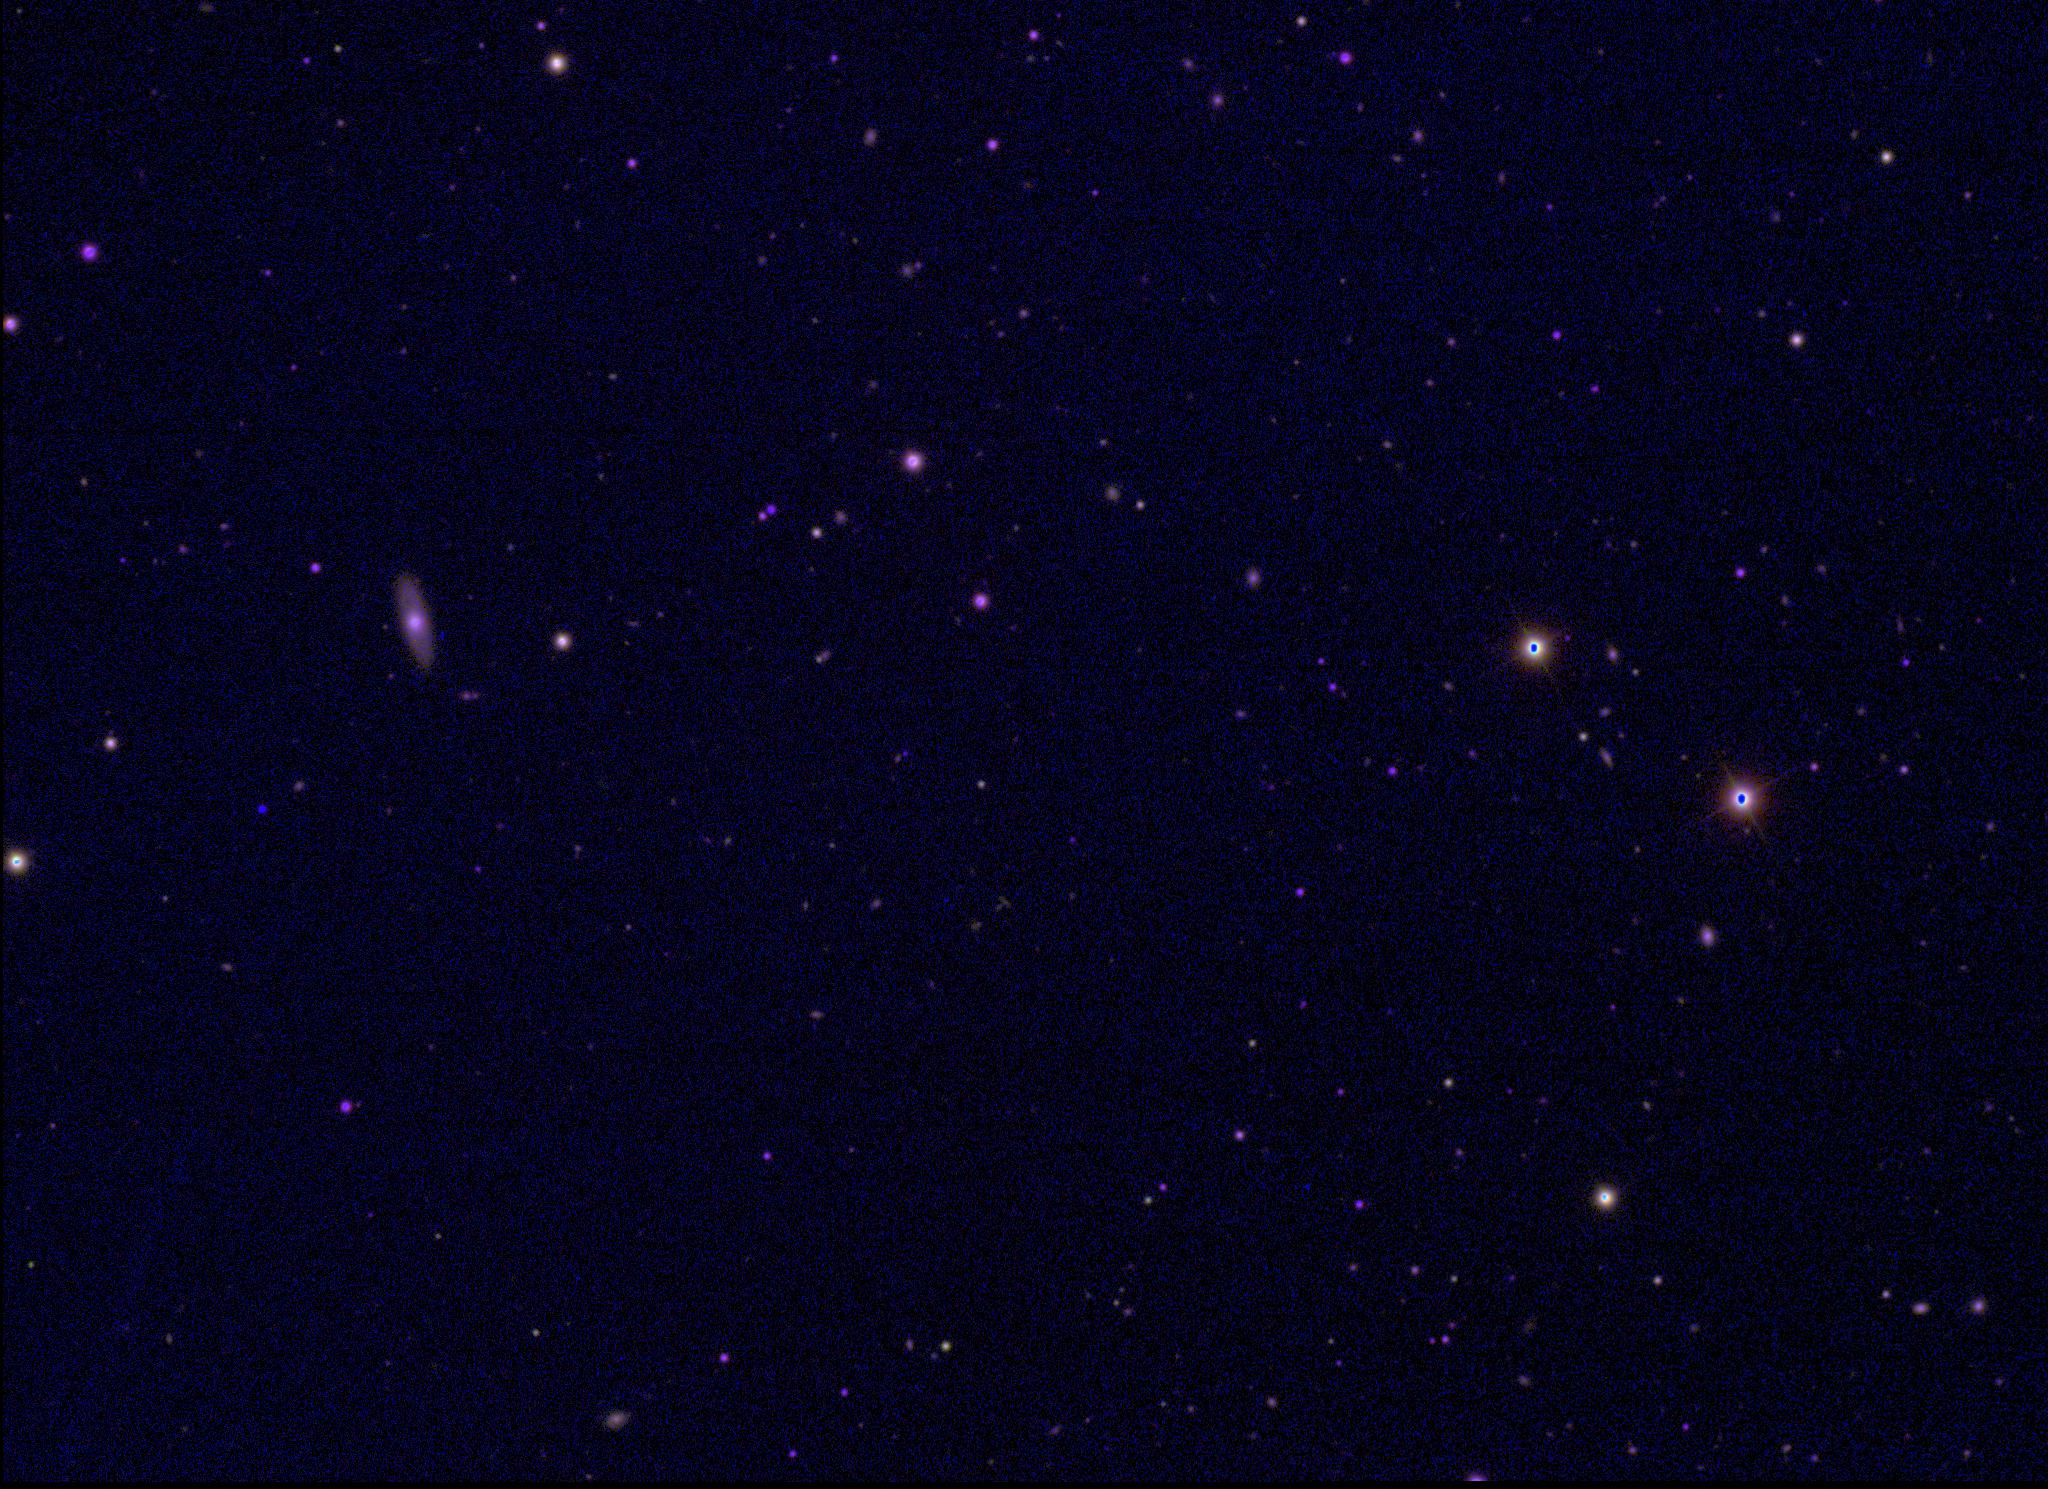L: (254, 802, 269, 816)
